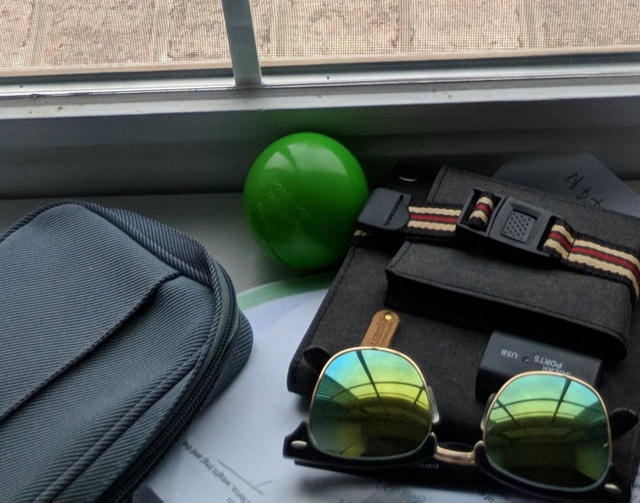ball: (245, 133, 370, 266)
